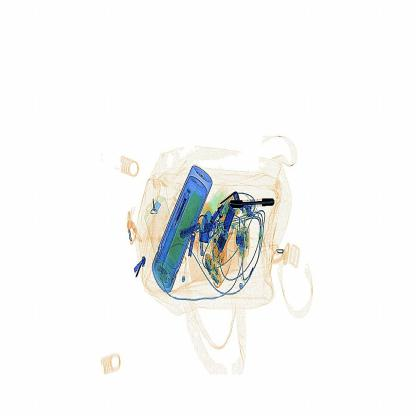knife: (220, 190, 280, 220)
